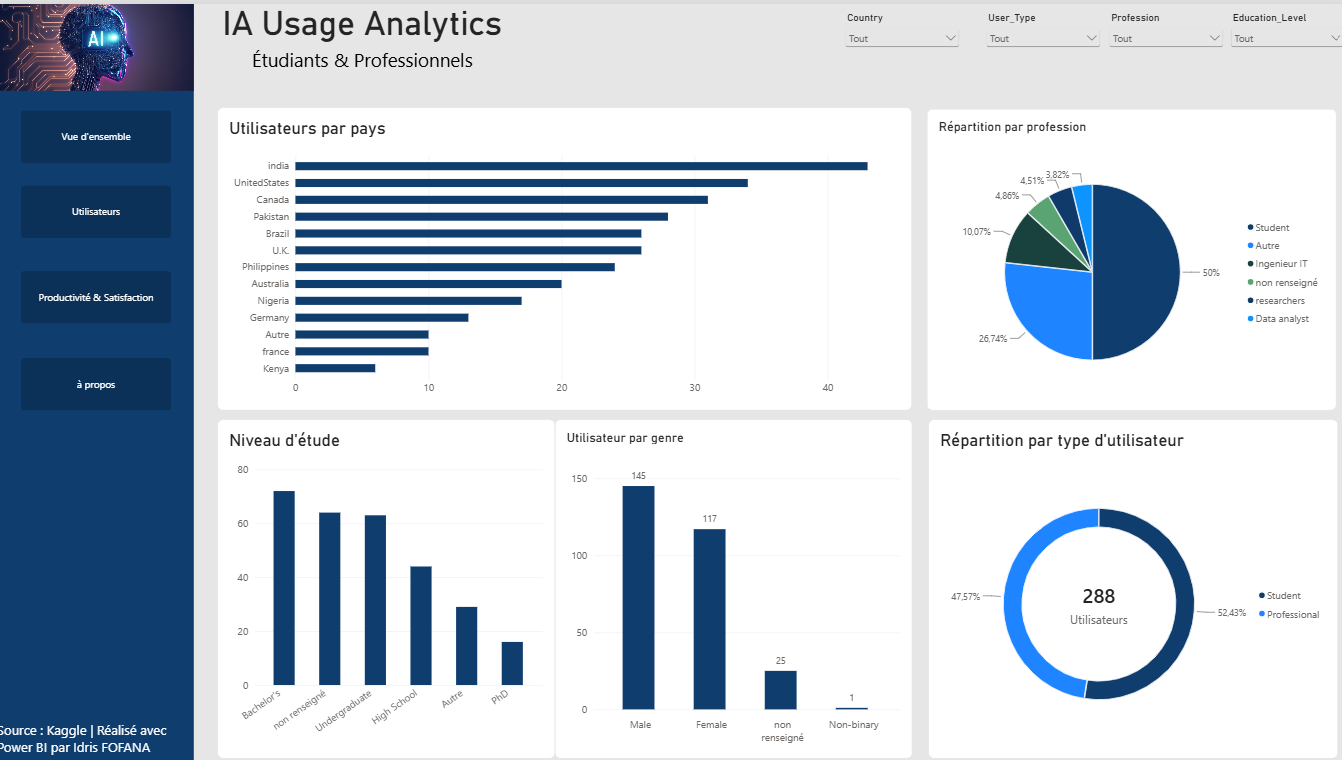

The page's visual inventory and layout, read from the dashboard file:
{"tool":"powerbi","page":{"name":"Utilisateurs","canvas":[1920,1080],"ordinal":1},"visuals":[{"type":"shape","box":[0,0,279.1,1080],"z":0},{"type":"textbox","title":"IA Usage Analytics","box":[279.1,0,479.3,151.2],"z":1000},{"type":"slicer","fields":{"Values":["AI_Usage.Country"]},"box":[1199.3,10.7,172.5,104.4],"z":2000},{"type":"slicer","fields":{"Values":["AI_Usage.User_Type"]},"box":[1399.5,10.7,172.5,104.4],"z":3000},{"type":"slicer","fields":{"Values":["AI_Usage.Education_Level1"]},"box":[1746.8,10.7,172.5,104.4],"z":4000},{"type":"slicer","fields":{"Values":["AI_Usage.Profession"]},"box":[1574.2,10.7,172.5,104.4],"z":5000},{"type":"donutChart","title":"Répartition par type d''utilisateur","fields":{"Category":["AI_Usage.User_Type"],"Y":["AI_Usage.Total users"]},"box":[1322.8,590.1,581.5,481.4],"z":6000},{"type":"barChart","title":"Utilisateurs par pays","fields":{"Category":["AI_Usage.Country"],"Y":["AI_Usage.Total users"]},"box":[313.1,147,986.3,430.3],"z":7000},{"type":"pieChart","title":"Répartition par profession","fields":{"Category":["AI_Usage.Profession 1"],"Y":["AI_Usage.Total users"]},"box":[1320.7,149.1,581.5,428.2],"z":8000},{"type":"columnChart","title":"Niveau d''étude","fields":{"Category":["AI_Usage.Education_Level1"],"Y":["AI_Usage.Total users"]},"box":[313.1,590.1,479.3,481.4],"z":9000},{"type":"columnChart","title":"Utilisateur par genre","fields":{"Category":["AI_Usage.genre"],"Y":["AI_Usage.Total users"]},"box":[792.4,590.1,507,481],"z":10000},{"type":"actionButton","title":"Utilisateurs","box":[34.1,257.8,213,74.6],"z":11000},{"type":"actionButton","title":"Utilisateurs","box":[34.1,151.2,213,74.6],"z":12000},{"type":"actionButton","title":"Utilisateurs","box":[34.1,379.2,213,74.6],"z":13000},{"type":"actionButton","title":"Utilisateurs","box":[34.1,502.7,213,74.6],"z":14000},{"type":"image","box":[0,0,279.1,123.6],"z":15000},{"type":"textbox","box":[0,1018.2,279.1,61.8],"z":15001}]}

Visuals, with their boxes on the page's 1920x1080 design canvas (x1, y1, x2, y2). These are canvas units, not pixel positions in the 1342x760 screenshot, which may show the page scaled, cropped or inside an application window:
shape: box(0, 0, 279, 1080)
"IA Usage Analytics" textbox: box(279, 0, 758, 151)
slicer - AI_Usage.Country: box(1199, 11, 1372, 115)
slicer - AI_Usage.User_Type: box(1400, 11, 1572, 115)
slicer - AI_Usage.Education_Level1: box(1747, 11, 1919, 115)
slicer - AI_Usage.Profession: box(1574, 11, 1747, 115)
"Répartition par type d''utilisateur" donutChart: box(1323, 590, 1904, 1072)
"Utilisateurs par pays" barChart: box(313, 147, 1299, 577)
"Répartition par profession" pieChart: box(1321, 149, 1902, 577)
"Niveau d''étude" columnChart: box(313, 590, 792, 1072)
"Utilisateur par genre" columnChart: box(792, 590, 1299, 1071)
"Utilisateurs" actionButton: box(34, 258, 247, 332)
"Utilisateurs" actionButton: box(34, 151, 247, 226)
"Utilisateurs" actionButton: box(34, 379, 247, 454)
"Utilisateurs" actionButton: box(34, 503, 247, 577)
image: box(0, 0, 279, 124)
textbox: box(0, 1018, 279, 1080)
